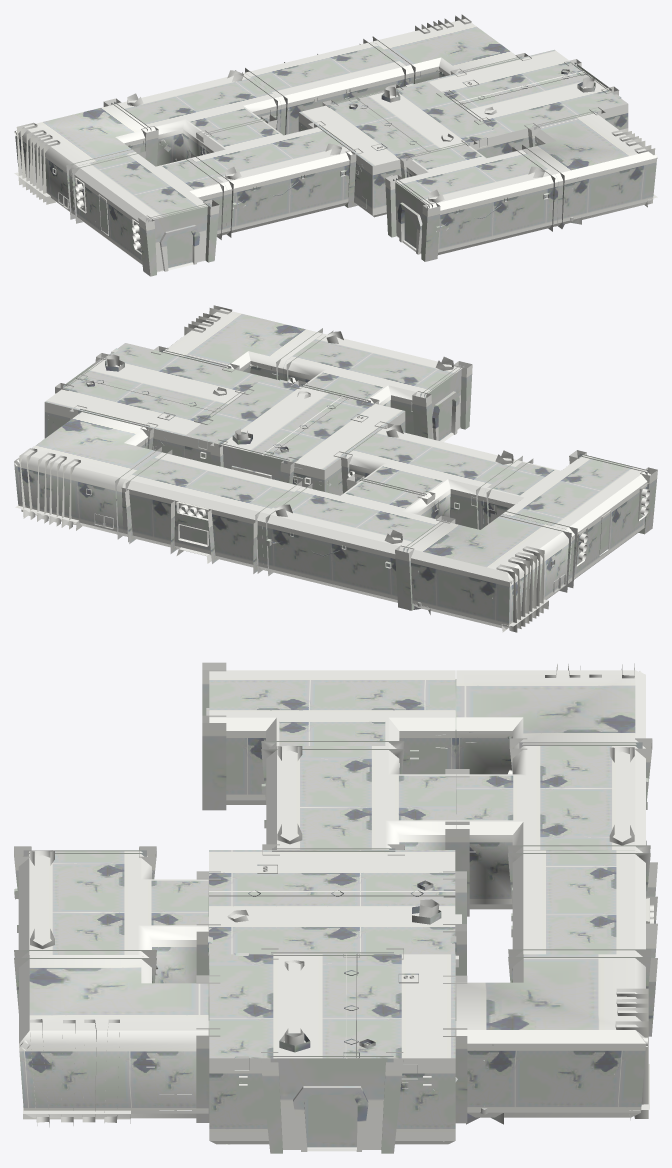
The model's file is Combined_Mesh_root_scene__1_e4e4d5ea__zombies2_diffuse_11_814463c1_c1f257.obj.
The picture shows the model from 3 angles, top to bottom: view 1: azimuth 30°, elevation 25°; view 2: azimuth 150°, elevation 25°; view 3: azimuth 270°, elevation 25°; orthographic projection. The views are drawn at different scales.
Size of the model in its own units: 77.02 by 9.64 by 52.3.
Materials: 159 (159 with a texture image).
